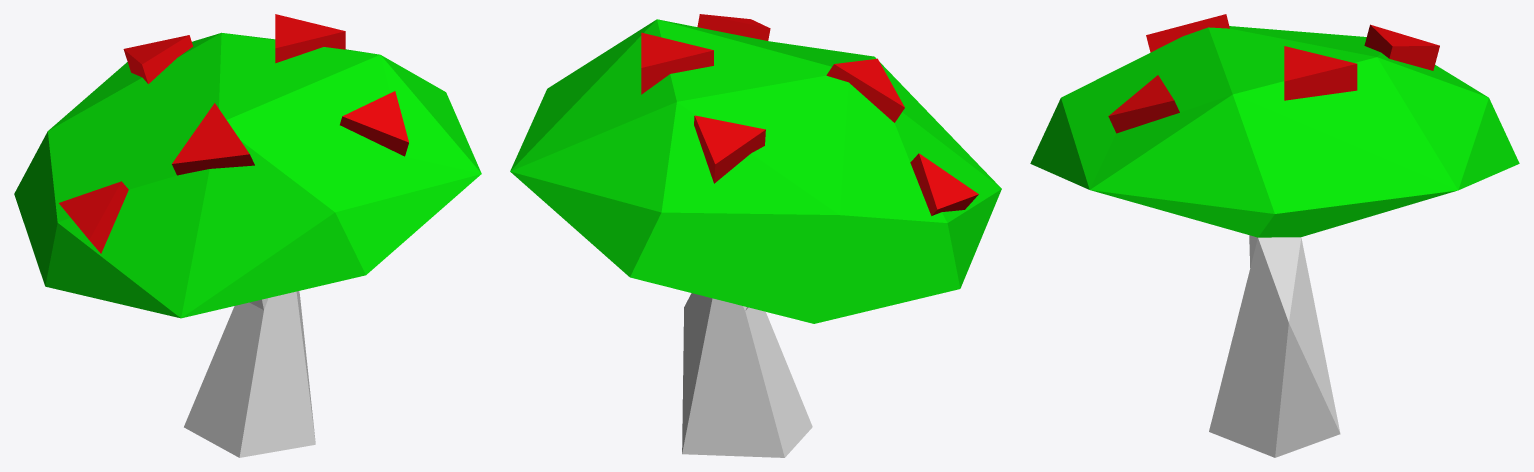
File: MushroomTree.fbx
The picture shows the model from 3 angles, left to right: view 1: azimuth 30°, elevation 25°; view 2: azimuth 150°, elevation 25°; view 3: azimuth 270°, elevation 25°; orthographic projection. The views are drawn at different scales.
Visible parts, largest first — view 1: Plane; view 2: Plane; view 3: Plane.
Part boxes in pixels (bbox=[...]): Plane: bbox=[14, 14, 481, 457]; Plane: bbox=[510, 14, 1001, 457]; Plane: bbox=[1030, 14, 1519, 457].
Bounding box in the file's own units: 393 × 361 × 402.
